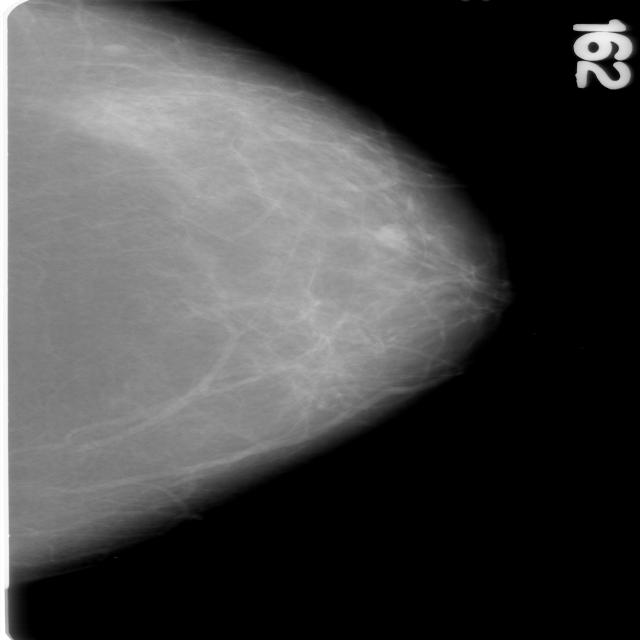normal: (0, 2, 503, 586)
